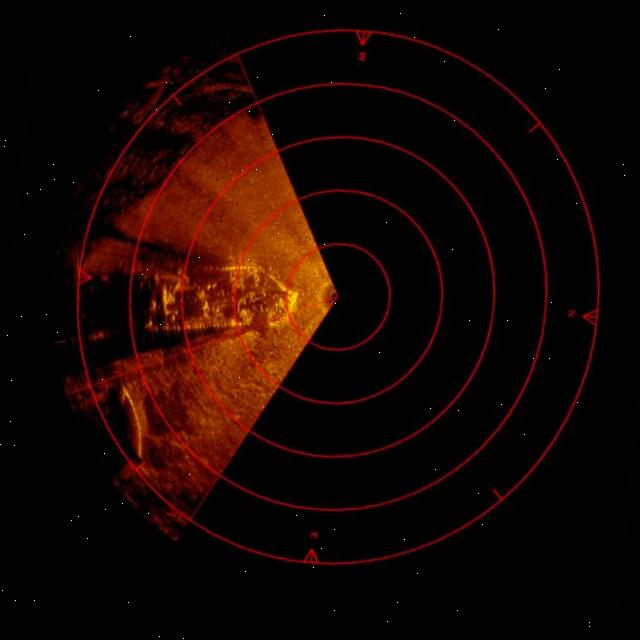shipwreck: (133, 243, 307, 368)
